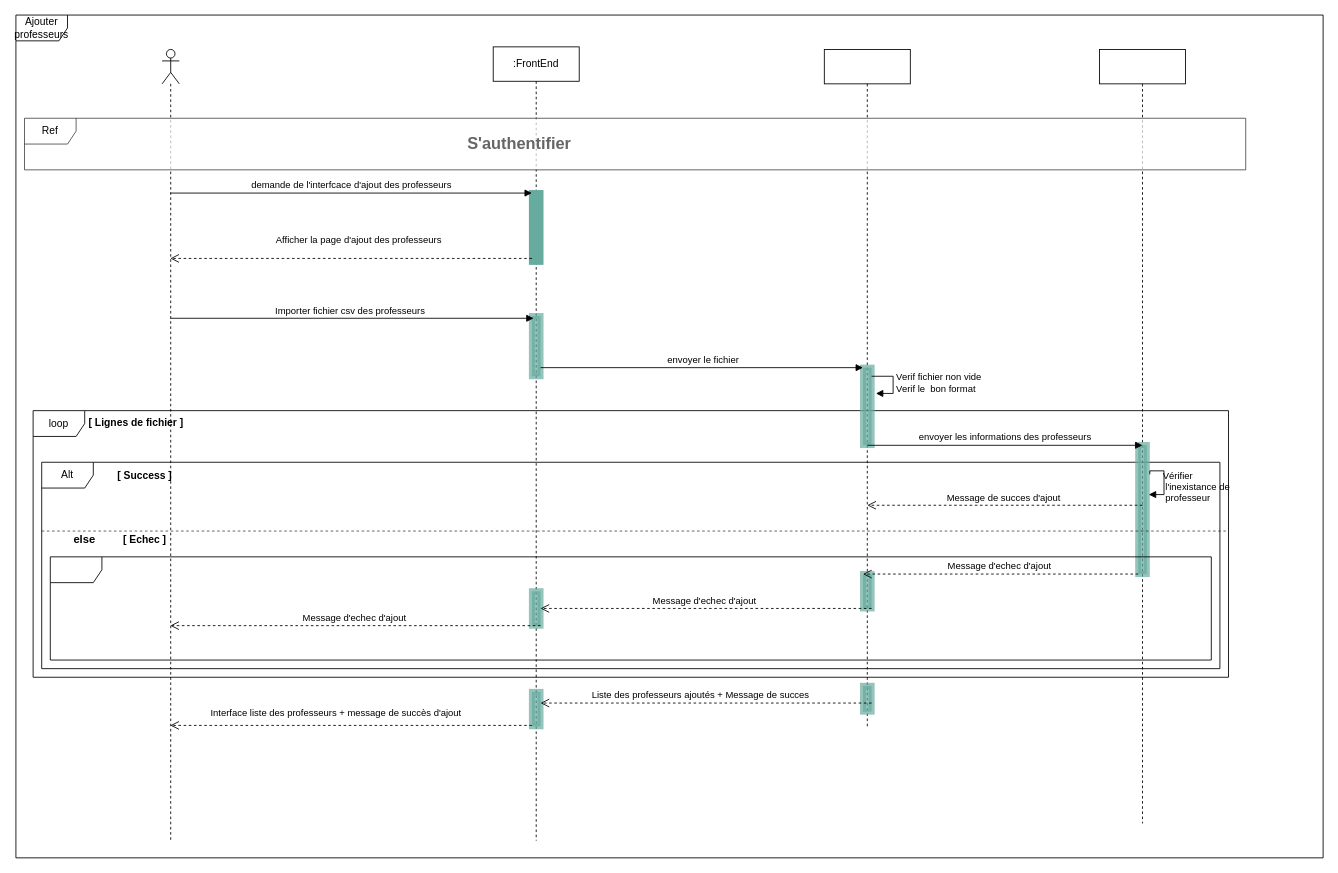
This 1338x873 diagram has some shape labels left out. Here are the shapes that lost their labels. From the top down, the centre of each, then its label:
At (866,389): ":BackEnd".
At (1142,436): ":DataBase".
At (630,608): "Break".
